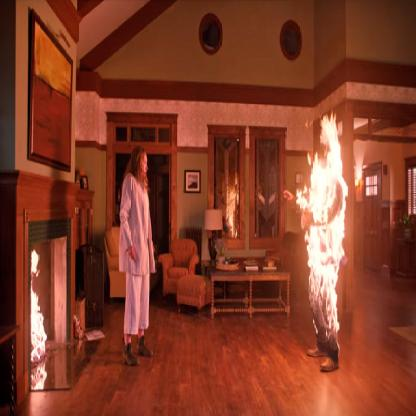fire: (292, 109, 357, 349), (30, 252, 56, 372)
